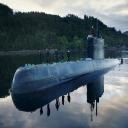submarine: (9, 19, 123, 99)
